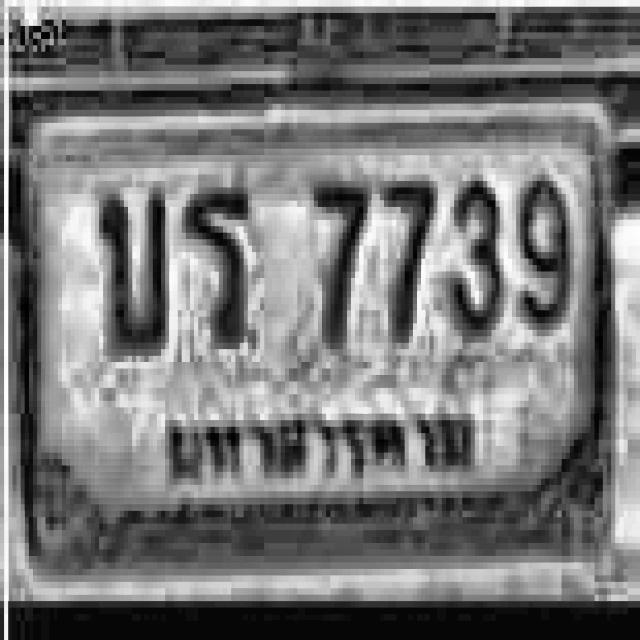license-plate: (25, 91, 618, 562)
